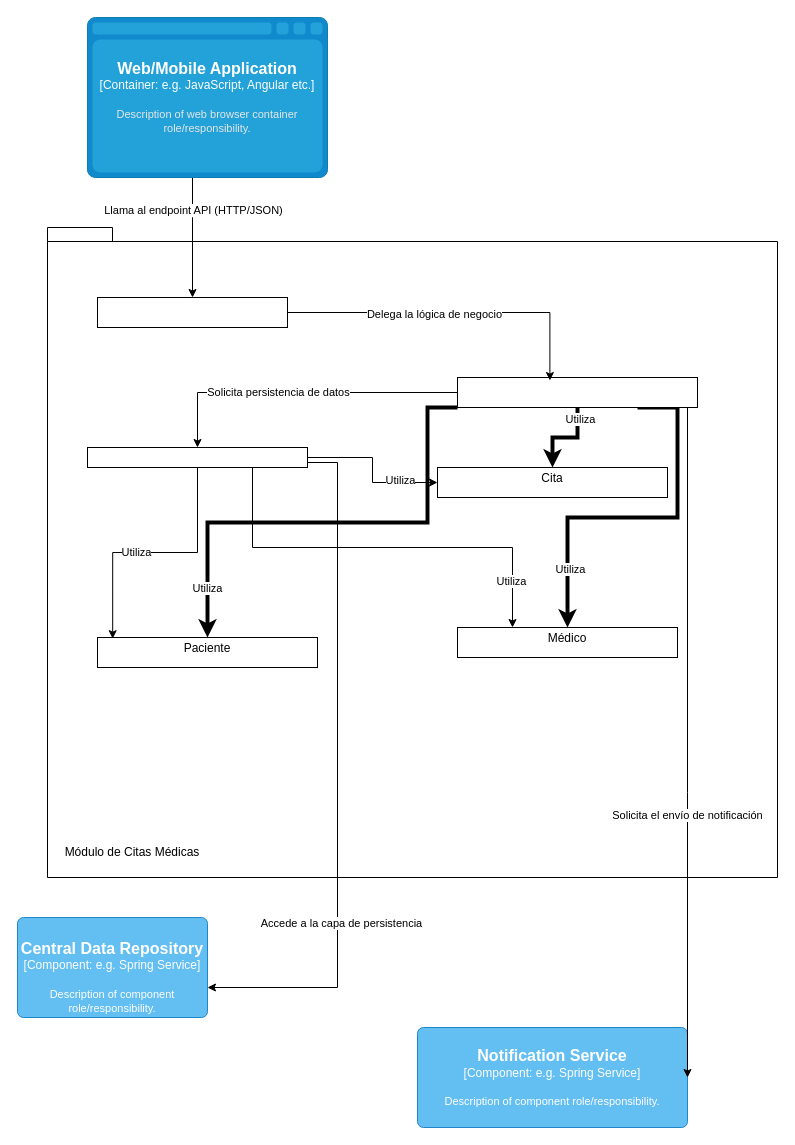
The diagram is 795 pixels wide and 1145 high, and some of its shapes have lost their labels. The centre of each missing label's shape, as x and y in pixels:
CitaController: (x=192, y=312)
CitaRepository: (x=197, y=457)
CitaService: (x=577, y=392)
